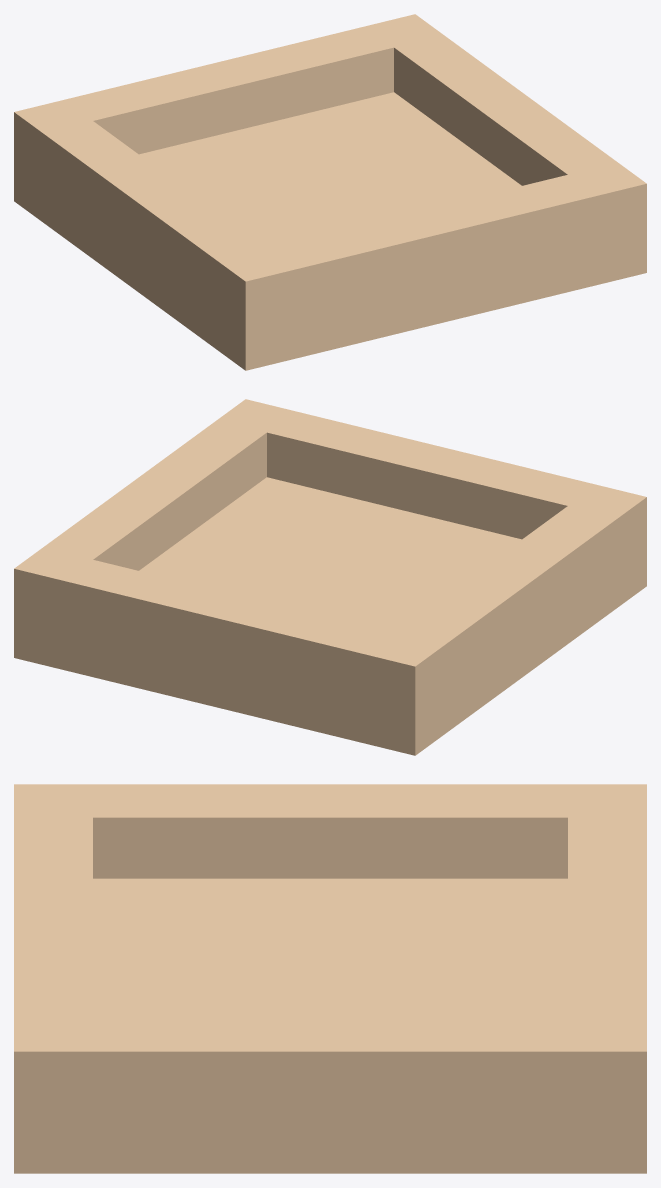
Rendered from roof-flat-border-center.obj.
3 views of the same model, one above another, from view 1: azimuth 30°, elevation 25°; view 2: azimuth 150°, elevation 25°; view 3: azimuth 270°, elevation 25° (orthographic). The views are drawn at different scales.
Size of the model in its own units: 1 by 0.2125 by 1.
